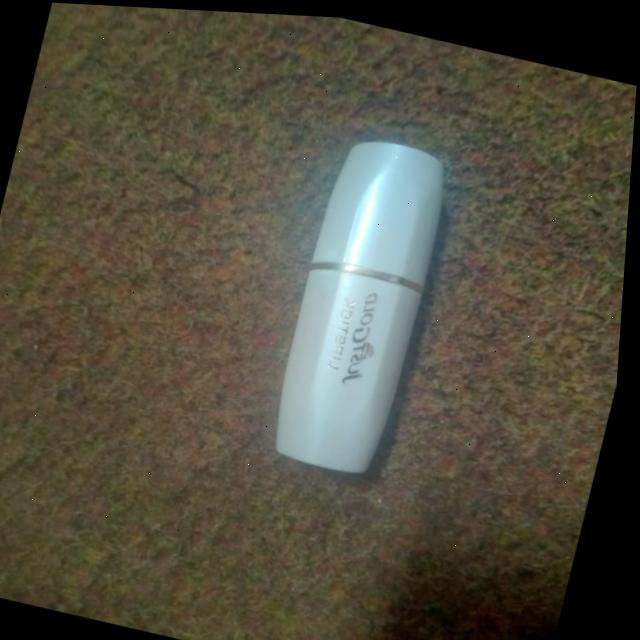lip stick: (251, 120, 483, 491)
